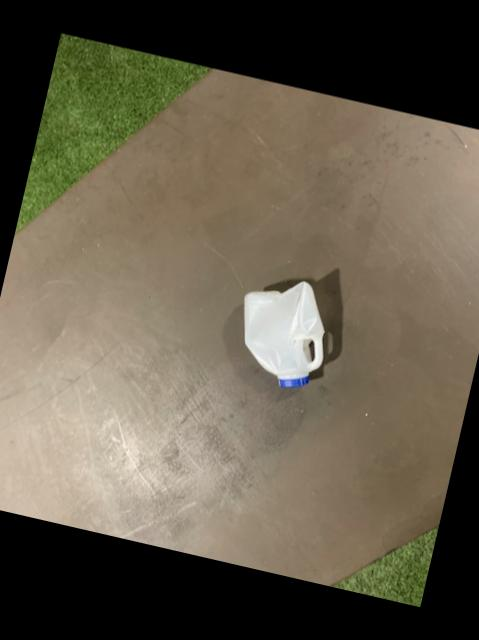plastic: (243, 280, 323, 386)
